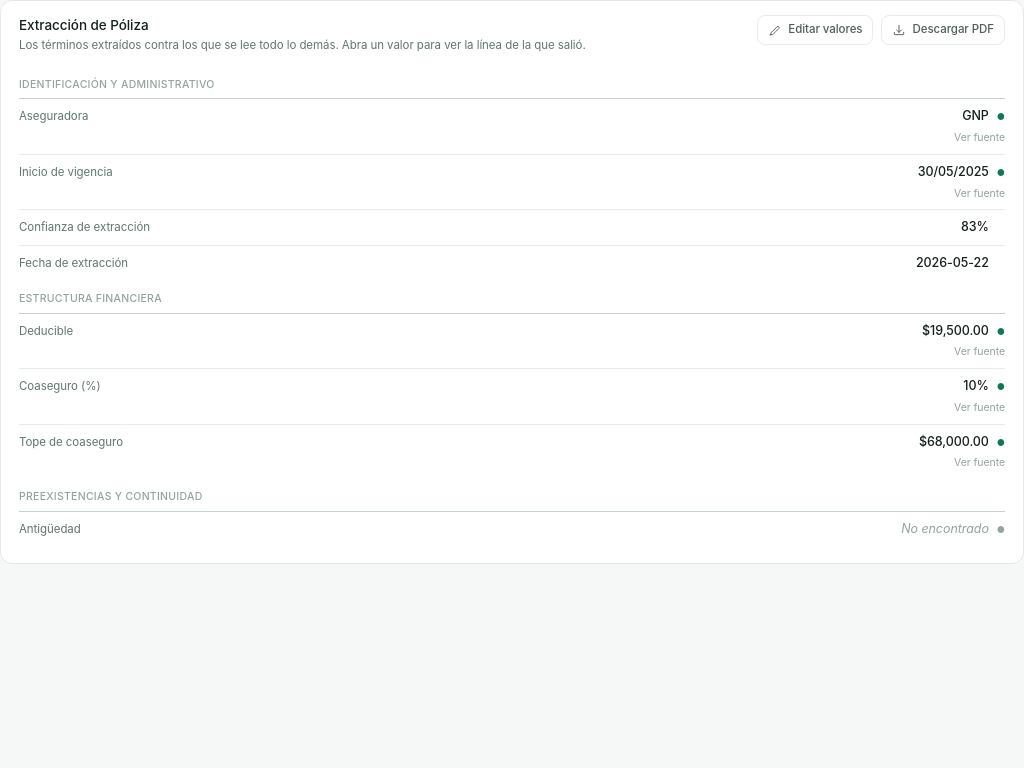
PolicyExtractionCard › shows the line of the policy a value came from
The width and height of the screenshot is (1024, 768).
Expected: the text "cita: $19,500.00" is not shown
Click the button "Ver fuente" below "$19,500.00" at (980, 352), box [954,344,1005,360]
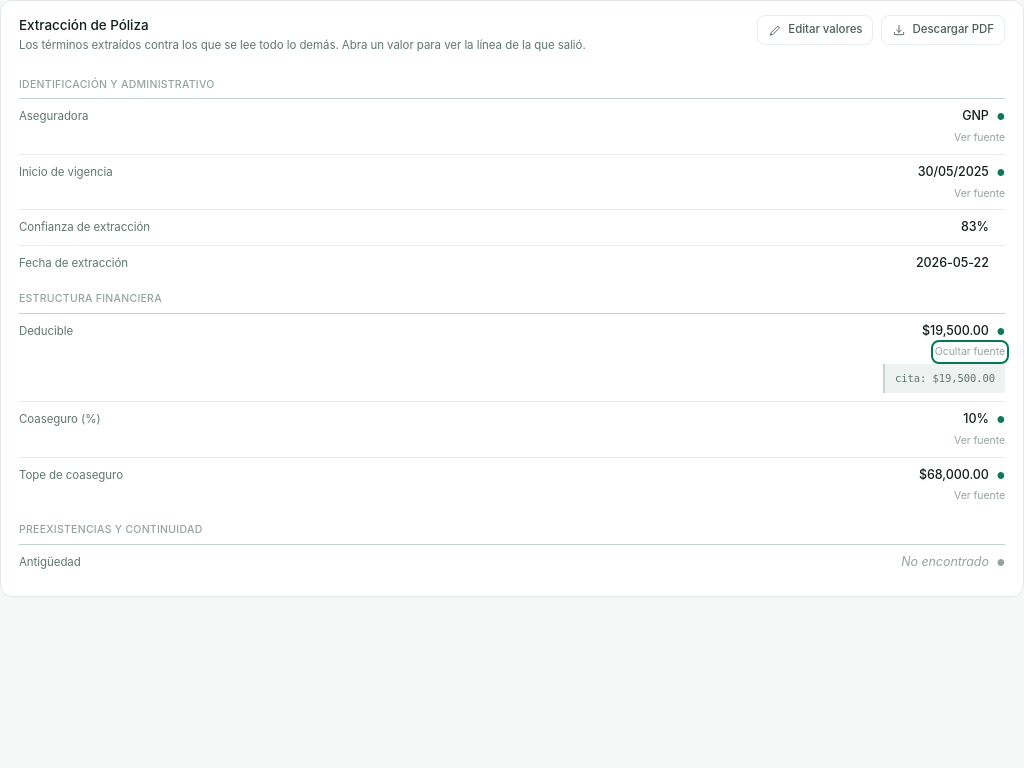
Expected: the text "cita: $19,500.00" is shown, [883,364,1005,393]
